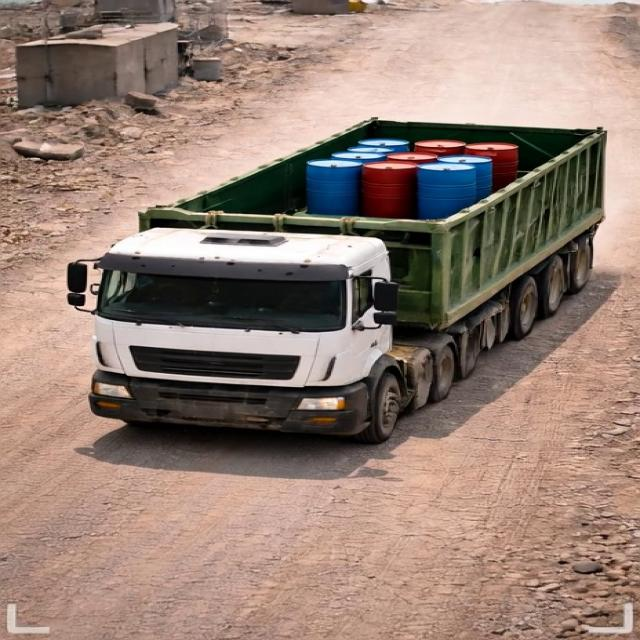Box: (147, 116, 608, 234)
Truck: (60, 84, 615, 437)
